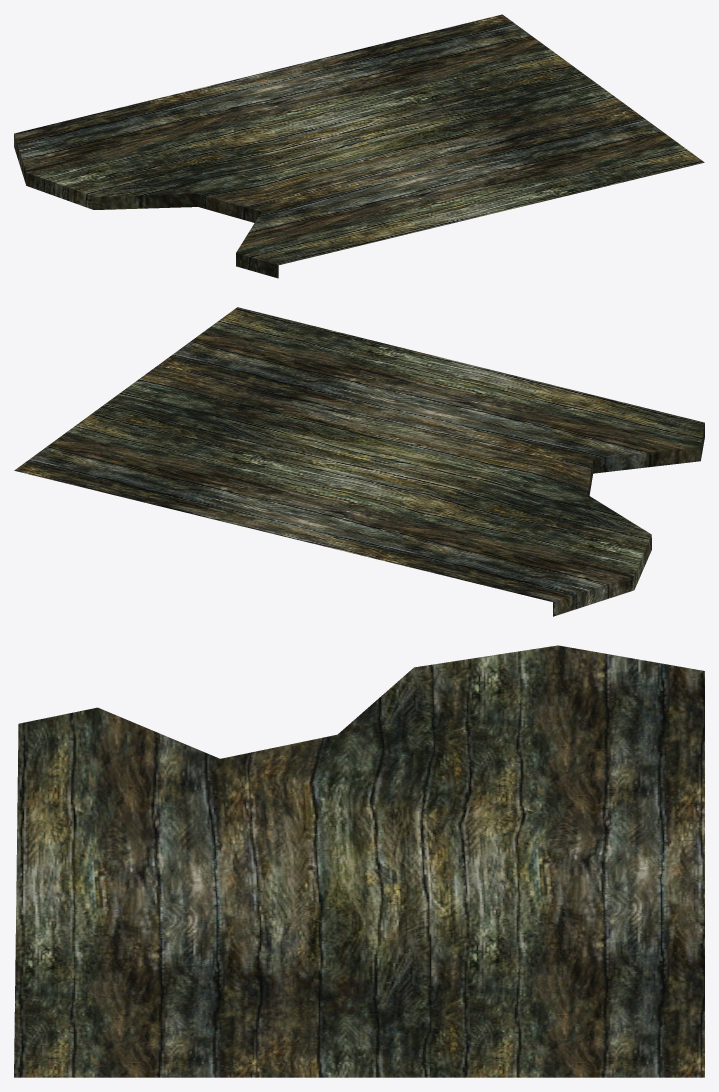
3 renders of one model, top to bottom at view 1: azimuth 30°, elevation 25°; view 2: azimuth 150°, elevation 25°; view 3: azimuth 270°, elevation 25°, orthographic. The views are drawn at different scales.
Parts seen in each view (by area): view 1: hr_f1e1-col; view 2: hr_f1e1-col; view 3: hr_f1e1-col.
Boxes of the visible parts, bbox=[...] form: hr_f1e1-col: bbox=[14, 14, 704, 278]; hr_f1e1-col: bbox=[14, 307, 704, 616]; hr_f1e1-col: bbox=[14, 645, 704, 1077].
Bounding box in the file's own units: 8.22 × 0.2006 × 5.55.
1 material, 1 textured.
